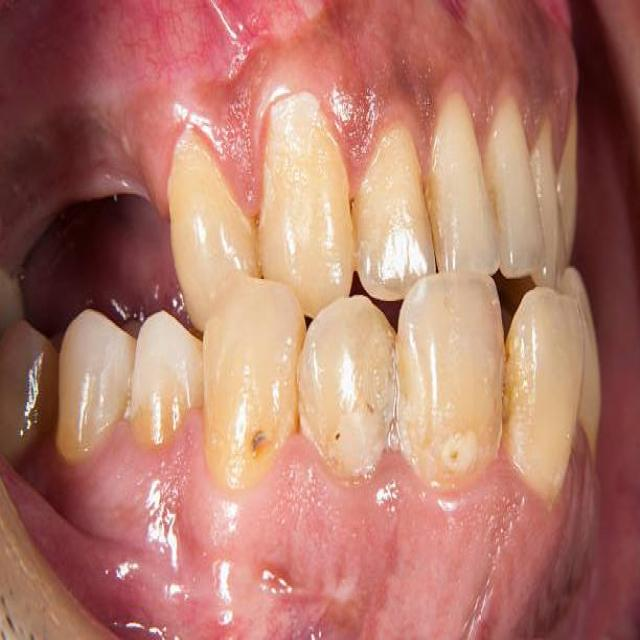caries: (246, 408, 275, 472)
